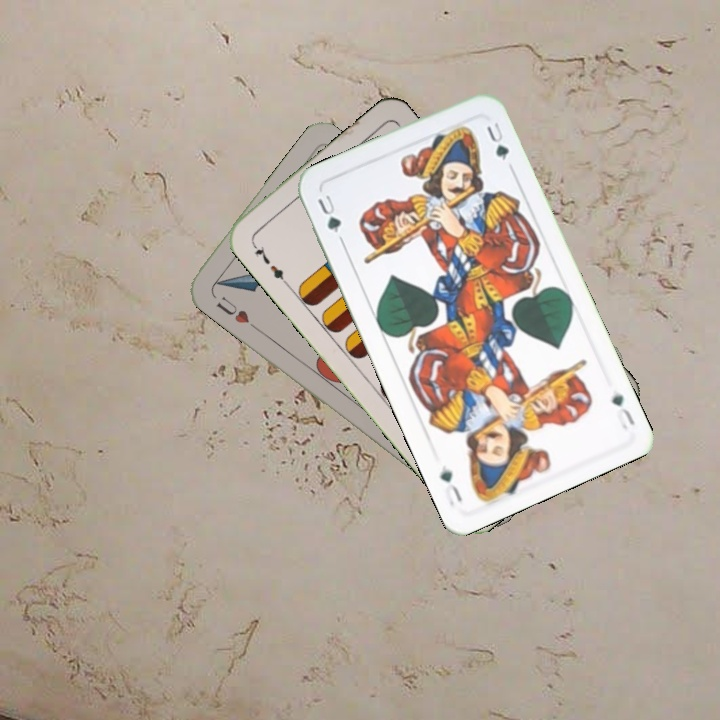E7: (247, 238, 291, 287)
GU: (313, 190, 346, 245), (607, 388, 638, 432)
HU: (212, 292, 252, 327)
